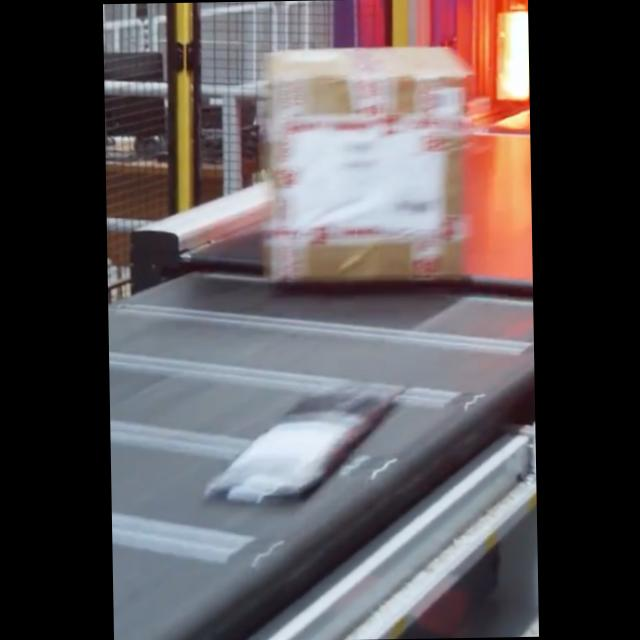box: (261, 44, 472, 286)
mailer: (217, 382, 386, 501)
